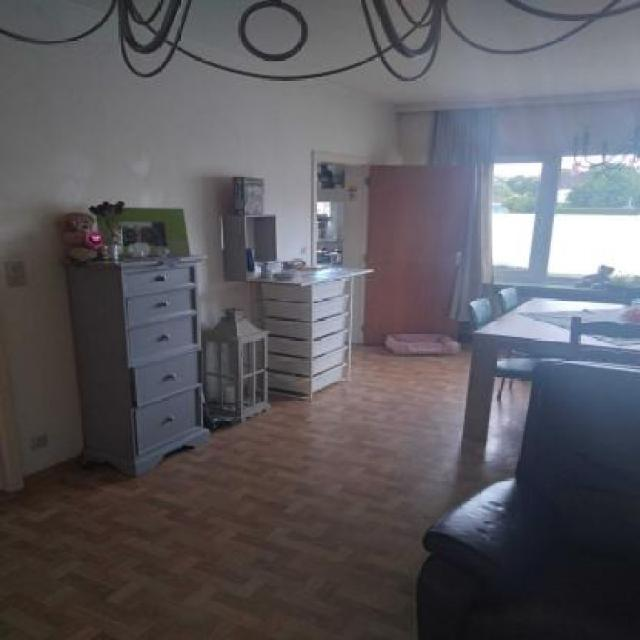Floor: (0, 342, 532, 640), (497, 349, 509, 359), (342, 364, 348, 380), (343, 349, 349, 364), (581, 358, 594, 361), (510, 352, 516, 358), (344, 342, 348, 346)
